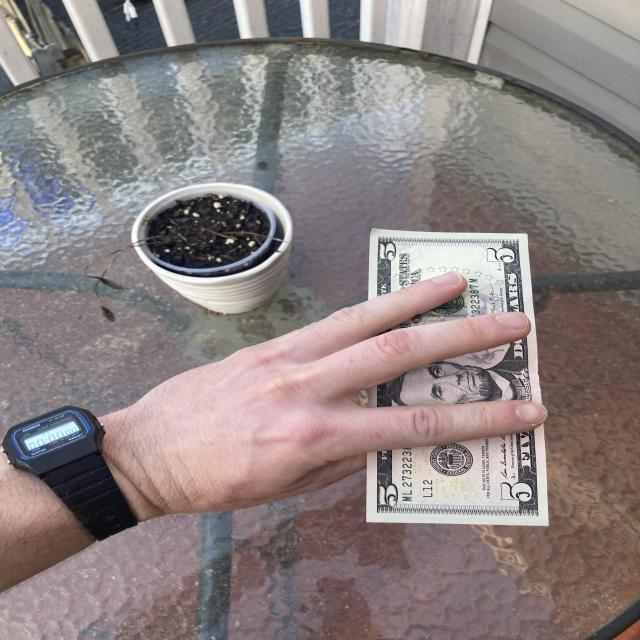five: (361, 226, 551, 529)
